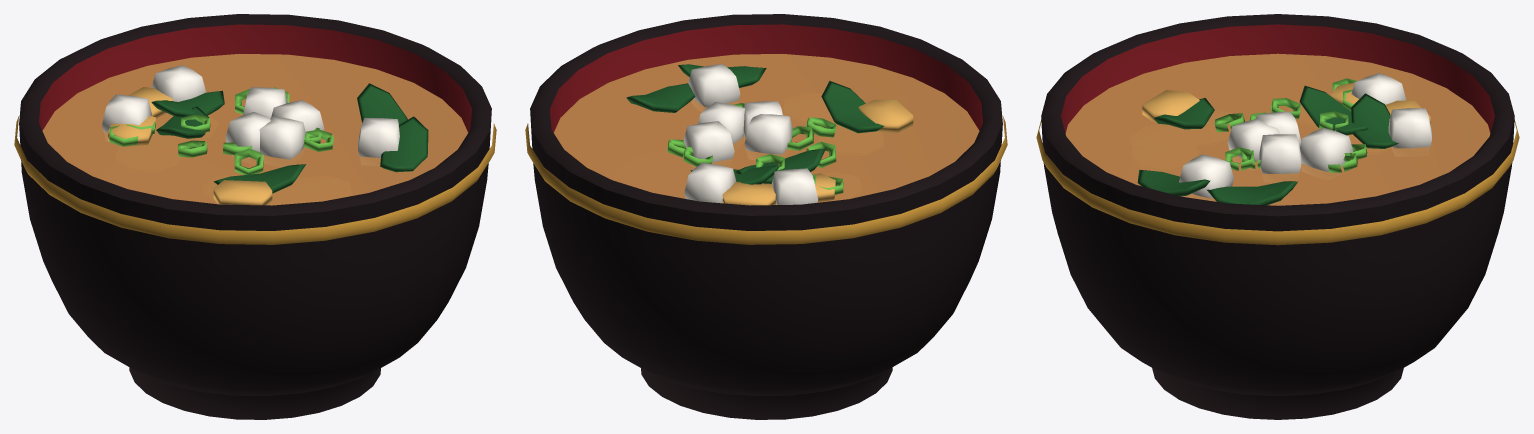
The picture shows the model from 3 angles, left to right: view 1: azimuth 30°, elevation 25°; view 2: azimuth 150°, elevation 25°; view 3: azimuth 270°, elevation 25°; orthographic projection.
Visible parts, largest first — view 1: bowl_outer, surface, bowl_rim, bowl_inner, tofu (×7), gold_band, wakame (×5), aburaage (×3), scallion (×3); view 2: bowl_outer, surface, bowl_rim, bowl_inner, tofu (×7), gold_band, wakame (×5), aburaage (×3), scallion; view 3: bowl_outer, surface, bowl_rim, bowl_inner, tofu (×7), gold_band, wakame (×5), aburaage.
Part boxes in pixels (left/top/right/bottom): bowl_outer: left=19, top=113, right=491, bottom=419; surface: left=42, top=54, right=467, bottom=205; bowl_rim: left=19, top=14, right=491, bottom=215; bowl_inner: left=38, top=24, right=472, bottom=132; tofu (×7): left=102, top=65, right=399, bottom=159; gold_band: left=14, top=116, right=496, bottom=244; wakame (×5): left=151, top=83, right=428, bottom=193; aburaage (×3): left=108, top=87, right=272, bottom=205; scallion (×3): left=177, top=129, right=333, bottom=174; bowl_outer: left=530, top=113, right=1002, bottom=419; surface: left=554, top=54, right=979, bottom=204; bowl_rim: left=530, top=14, right=1002, bottom=215; bowl_inner: left=549, top=24, right=983, bottom=132; tofu (×7): left=683, top=64, right=818, bottom=204; gold_band: left=525, top=116, right=1007, bottom=244; wakame (×5): left=626, top=64, right=884, bottom=184; aburaage (×3): left=722, top=99, right=913, bottom=205; scallion: left=806, top=117, right=836, bottom=137; bowl_outer: left=1041, top=117, right=1514, bottom=419; surface: left=1065, top=53, right=1490, bottom=205; bowl_rim: left=1041, top=14, right=1514, bottom=216; bowl_inner: left=1061, top=24, right=1494, bottom=132; tofu (×7): left=1179, top=73, right=1431, bottom=198; gold_band: left=1036, top=120, right=1519, bottom=245; wakame (×5): left=1137, top=85, right=1398, bottom=205; aburaage: left=1142, top=90, right=1199, bottom=122.
Bounding box in the file's own units: 0.1224 × 0.0718 × 0.1224.
